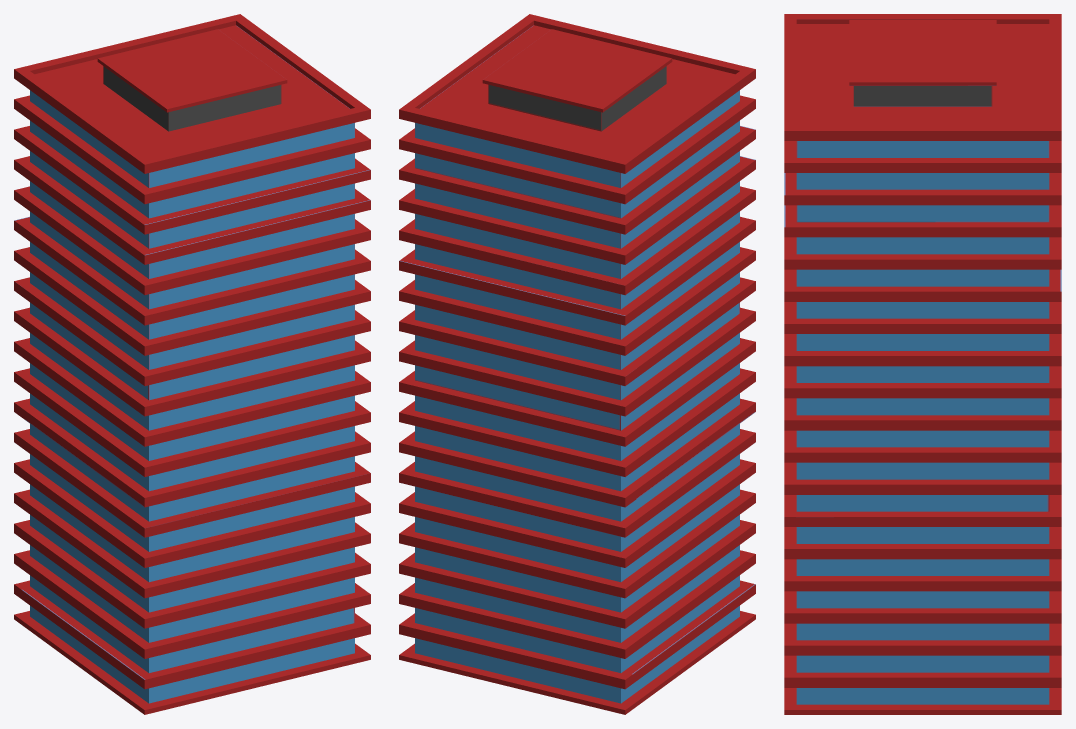
The model's file is eDIFICIL3.fbx.
The picture shows the model from 3 angles, left to right: view 1: azimuth 30°, elevation 25°; view 2: azimuth 150°, elevation 25°; view 3: azimuth 270°, elevation 25°; orthographic projection. The views are drawn at different scales.
Parts seen in each view (by area): view 1: Highrise_19; view 2: Highrise_19; view 3: Highrise_19.
Part boxes in pixels (box(x1,y1,x2,y2)): Highrise_19: box(14, 14, 370, 714); Highrise_19: box(399, 14, 755, 714); Highrise_19: box(784, 14, 1061, 714).
Size of the model in its own units: 2081 by 5014 by 2081.
